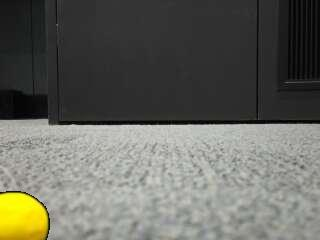lemon: (0, 194, 49, 240)
